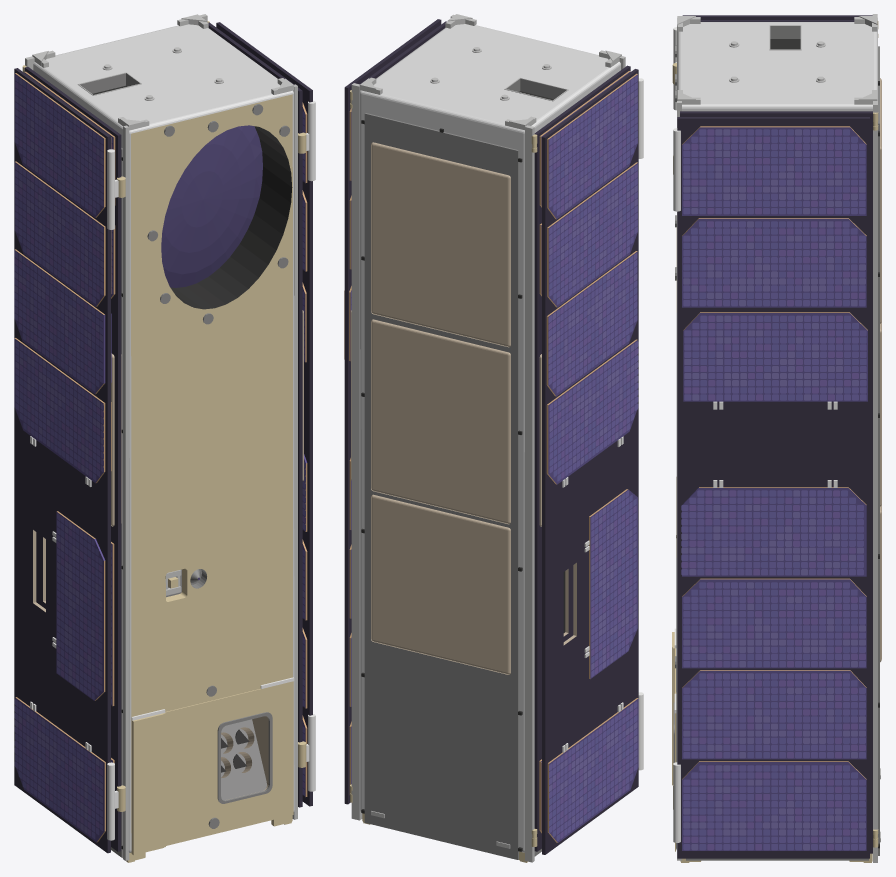
Rendered from CubeSat - MiRaTa.glb.
3 views of the same model, side by side, from view 1: azimuth 30°, elevation 25°; view 2: azimuth 150°, elevation 25°; view 3: azimuth 270°, elevation 25° (orthographic). The views are drawn at different scales.
Visible parts, largest first — view 1: Layer_0, Layer_2, Layer_4, Layer_3, Layer_1; view 2: Layer_0, Layer_2, Layer_4, Layer_3, Layer_1; view 3: Layer_3, Layer_0, Layer_1, Layer_2.
Boxes of the visible parts, bbox=[...] form: Layer_0: bbox=[22, 14, 297, 862]; Layer_2: bbox=[14, 68, 118, 853]; Layer_4: bbox=[24, 67, 125, 851]; Layer_3: bbox=[216, 22, 315, 806]; Layer_1: bbox=[208, 22, 306, 807]; Layer_0: bbox=[350, 14, 625, 862]; Layer_2: bbox=[541, 69, 643, 854]; Layer_4: bbox=[532, 65, 630, 851]; Layer_3: bbox=[344, 19, 441, 804]; Layer_1: bbox=[350, 21, 446, 794]; Layer_3: bbox=[673, 117, 869, 858]; Layer_0: bbox=[672, 14, 881, 862]; Layer_1: bbox=[673, 111, 877, 853]; Layer_2: bbox=[673, 15, 872, 691].
Bounding box in the file's own units: 2.46 × 8.4 × 2.09.
